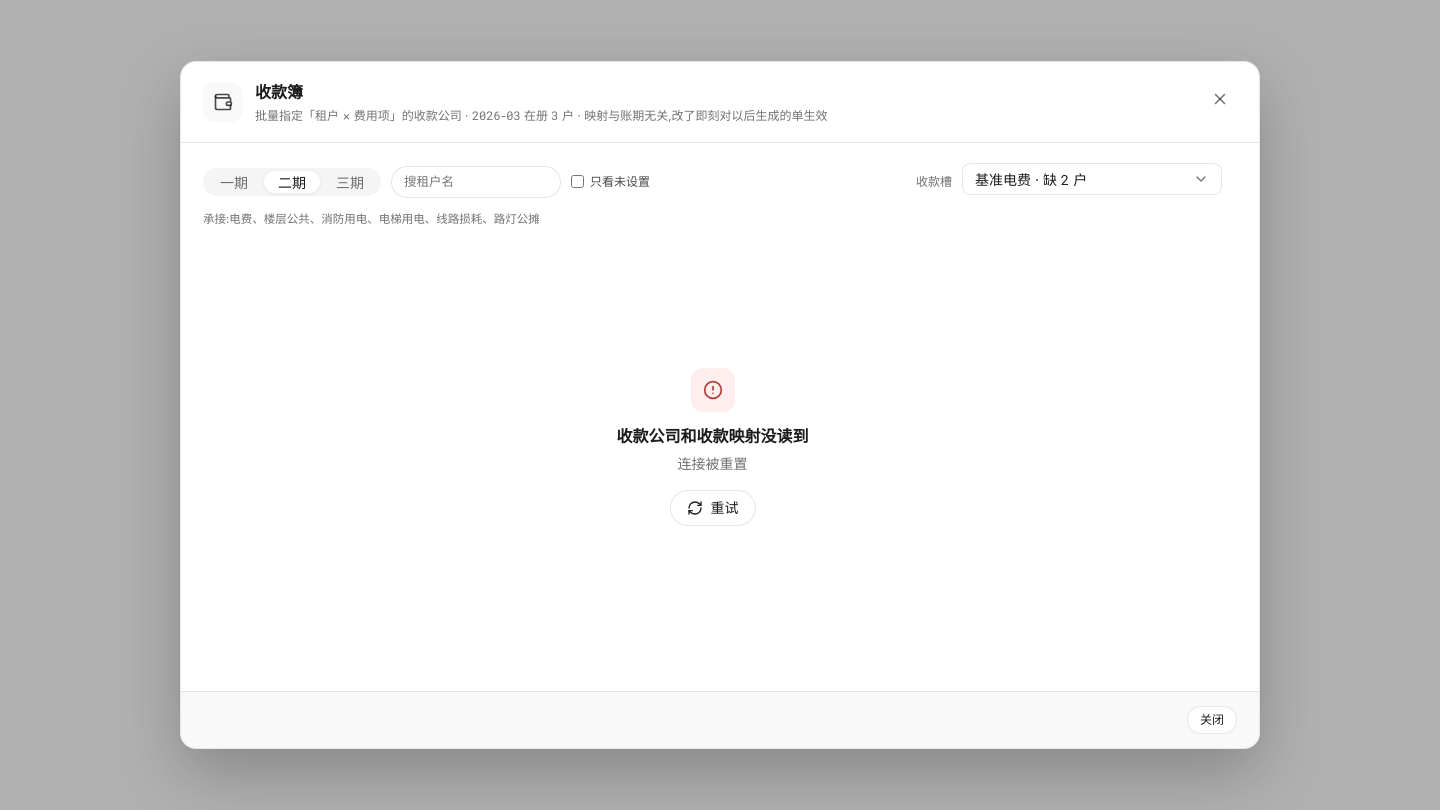
收款簿 › ❗加载失败:FPLoadError 换掉表格,点重试重拉
Expected: the message with class "error" shows "收款公司和收款映射没读到", [616,426,808,446]
Click the button "重试" at (712, 508), box [670,490,756,526]
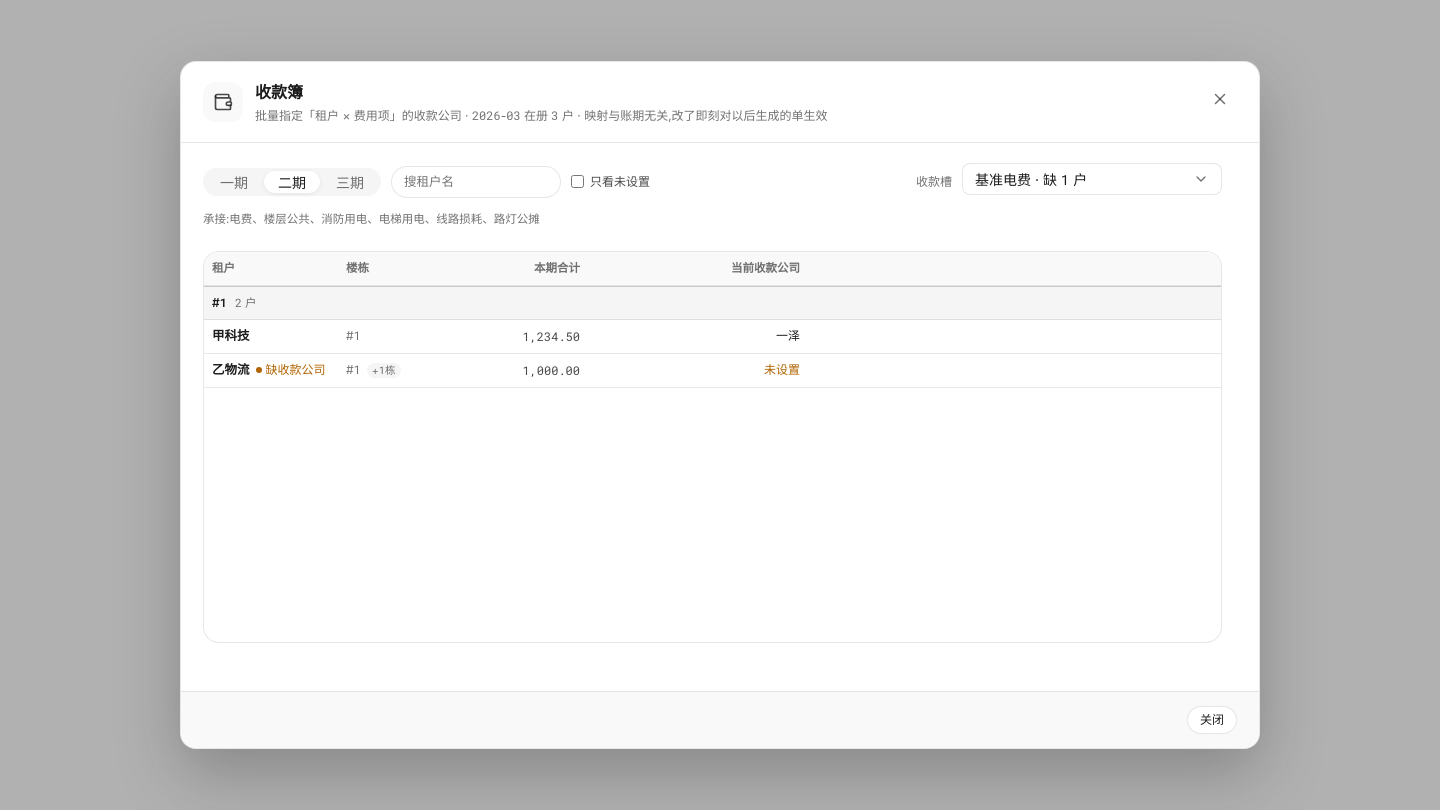
Result: the table is shown at [204,252,1221,388]
